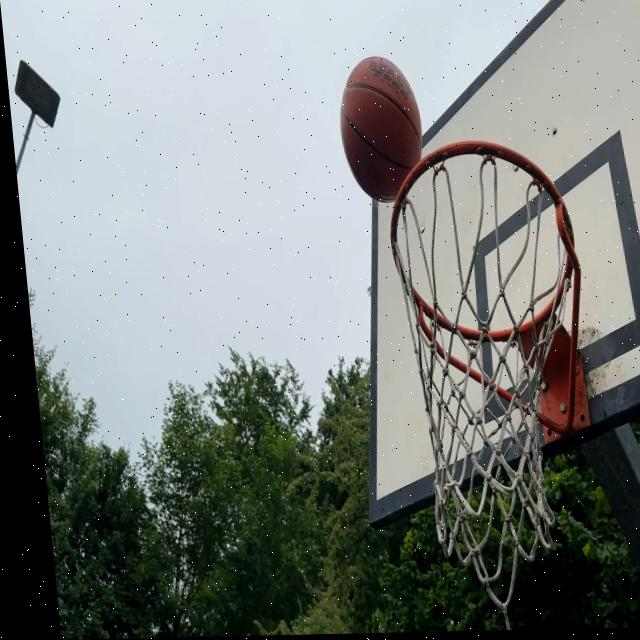Basketball: (334, 54, 428, 198)
